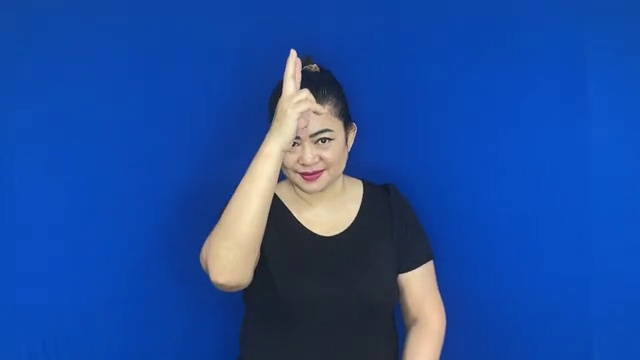chicken: (266, 42, 327, 151)
